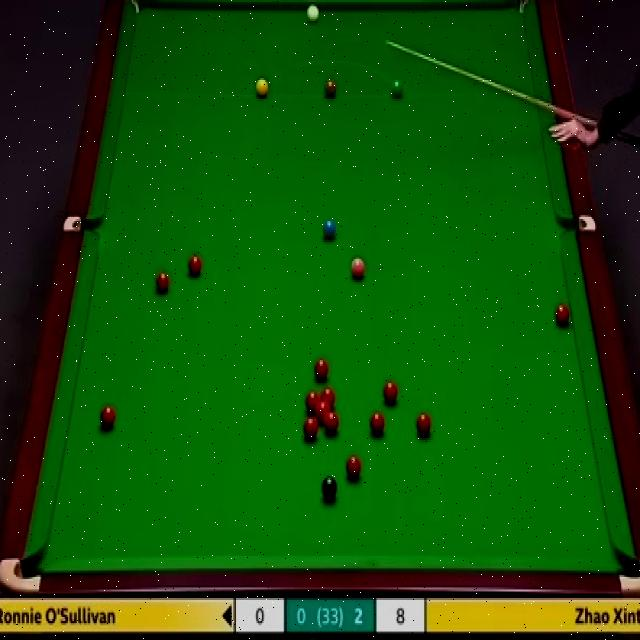black-ball: (320, 474, 337, 502)
blue-ball: (322, 217, 337, 243)
brown-ball: (323, 78, 337, 98)
green-ball: (391, 78, 404, 98)
pink-ball: (349, 256, 366, 280)
red-ball: (413, 411, 434, 439), (368, 410, 386, 440), (381, 377, 398, 407), (346, 452, 362, 482), (100, 404, 116, 431), (319, 386, 336, 411), (555, 302, 570, 330), (303, 417, 318, 442), (314, 358, 329, 383), (155, 271, 172, 293), (306, 389, 320, 415), (188, 253, 202, 279), (324, 410, 338, 435), (317, 402, 331, 423)
white-ball: (305, 4, 321, 23)
yellow-ball: (255, 78, 269, 98)
